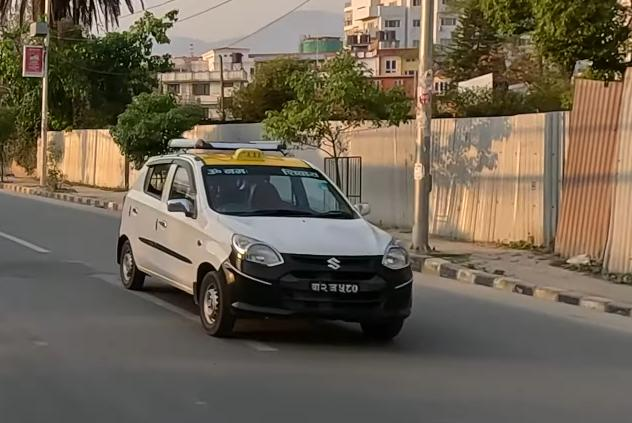taxi: (114, 142, 424, 343)
